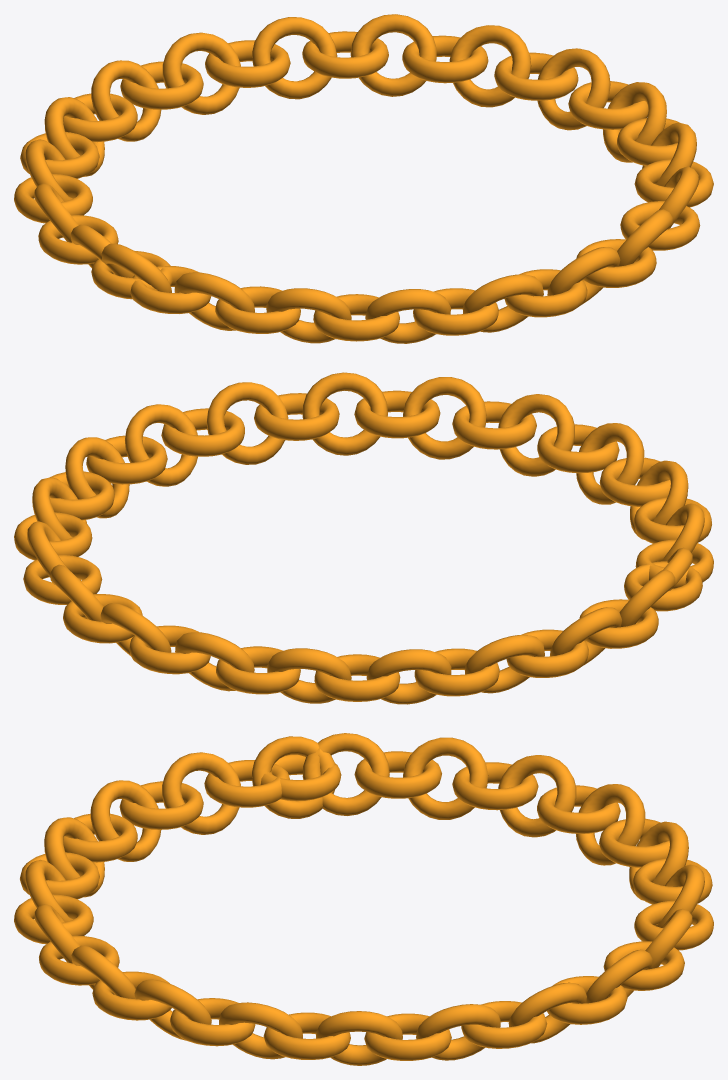
3 views of the same model, one above another, from view 1: azimuth 30°, elevation 25°; view 2: azimuth 150°, elevation 25°; view 3: azimuth 270°, elevation 25° (orthographic).
Visible parts, largest first — view 1: 303; view 2: 303; view 3: 303.
Boxes of the visible parts, left/top/right/bottom form: 303: left=14, top=14, right=713, bottom=343; 303: left=14, top=372, right=713, bottom=704; 303: left=14, top=733, right=713, bottom=1065.
Size of the model in its own units: 47.98 by 48.06 by 5.14.
